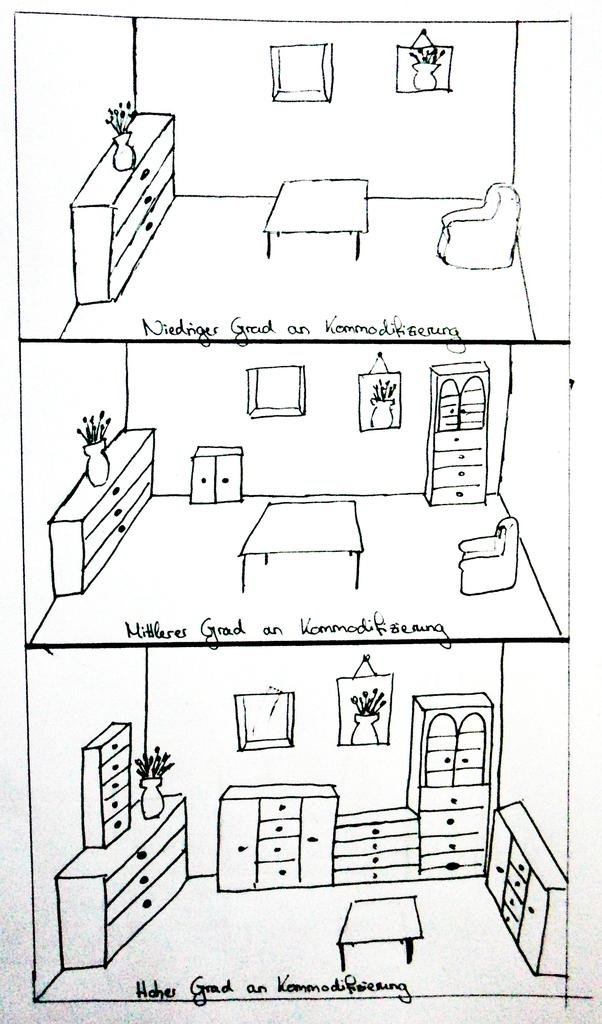Chair: (434, 177, 521, 273), (454, 516, 517, 595)
